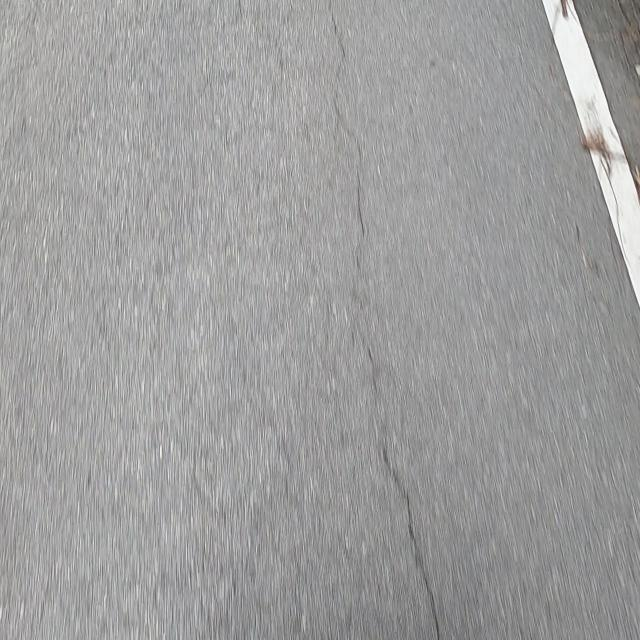Retak-Memanjang: (366, 353, 440, 639), (324, 0, 366, 293)
